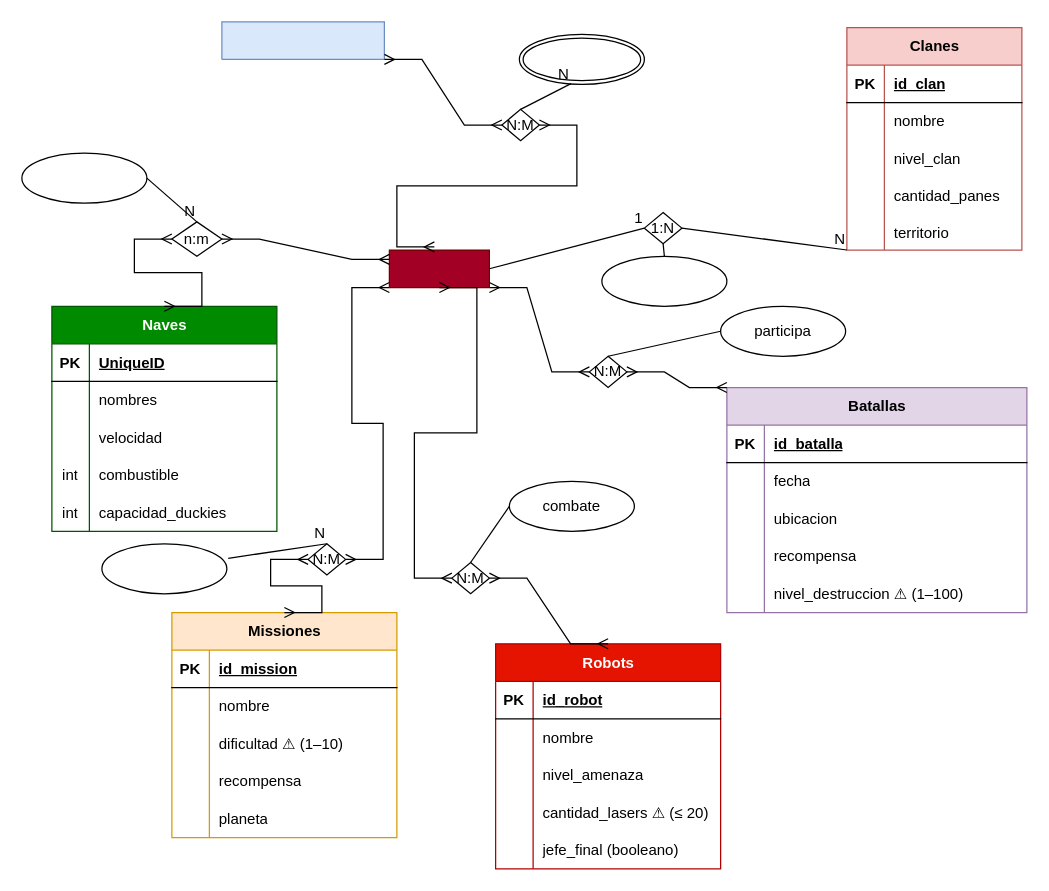
Image size: 1049x891. Some labels were removed from this diagram. Each missing label, with the centre of its shape:
"Duckies" belongs at [438,268].
"Panes_Magicos" belongs at [302,40].
"pertenece" belongs at [664,280].
"Realiza" belongs at [164,568].
"Usa/posee" belongs at [581,58].
"viajar" belongs at [84,177].
